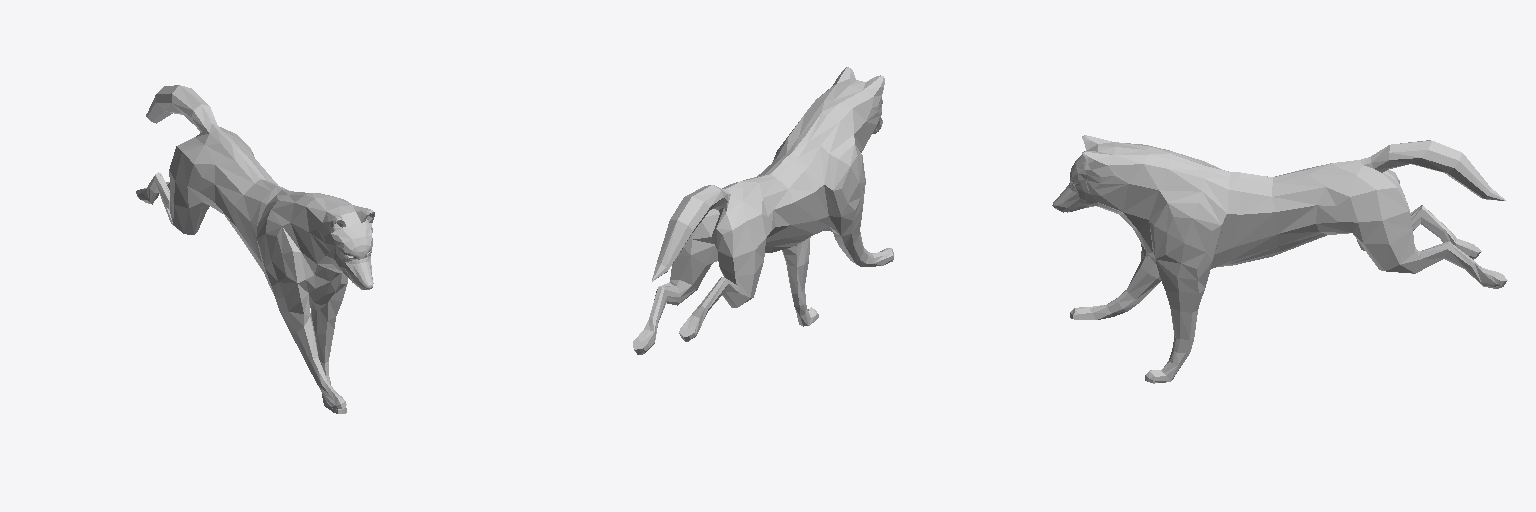
The model's file is wolf.obj.
3 views of the same model, side by side, from view 1: azimuth 30°, elevation 25°; view 2: azimuth 150°, elevation 25°; view 3: azimuth 270°, elevation 25° (orthographic).
Visible parts, largest first — view 1: Wolf1_Material__wolf_col_tga_0; view 2: Wolf1_Material__wolf_col_tga_0; view 3: Wolf1_Material__wolf_col_tga_0.
Part boxes in pixels (x1,y1,x2,y2): Wolf1_Material__wolf_col_tga_0: (136, 85, 374, 413); Wolf1_Material__wolf_col_tga_0: (633, 67, 893, 354); Wolf1_Material__wolf_col_tga_0: (1052, 135, 1507, 383).
Size of the model in its own units: 0.1927 by 0.5599 by 1.